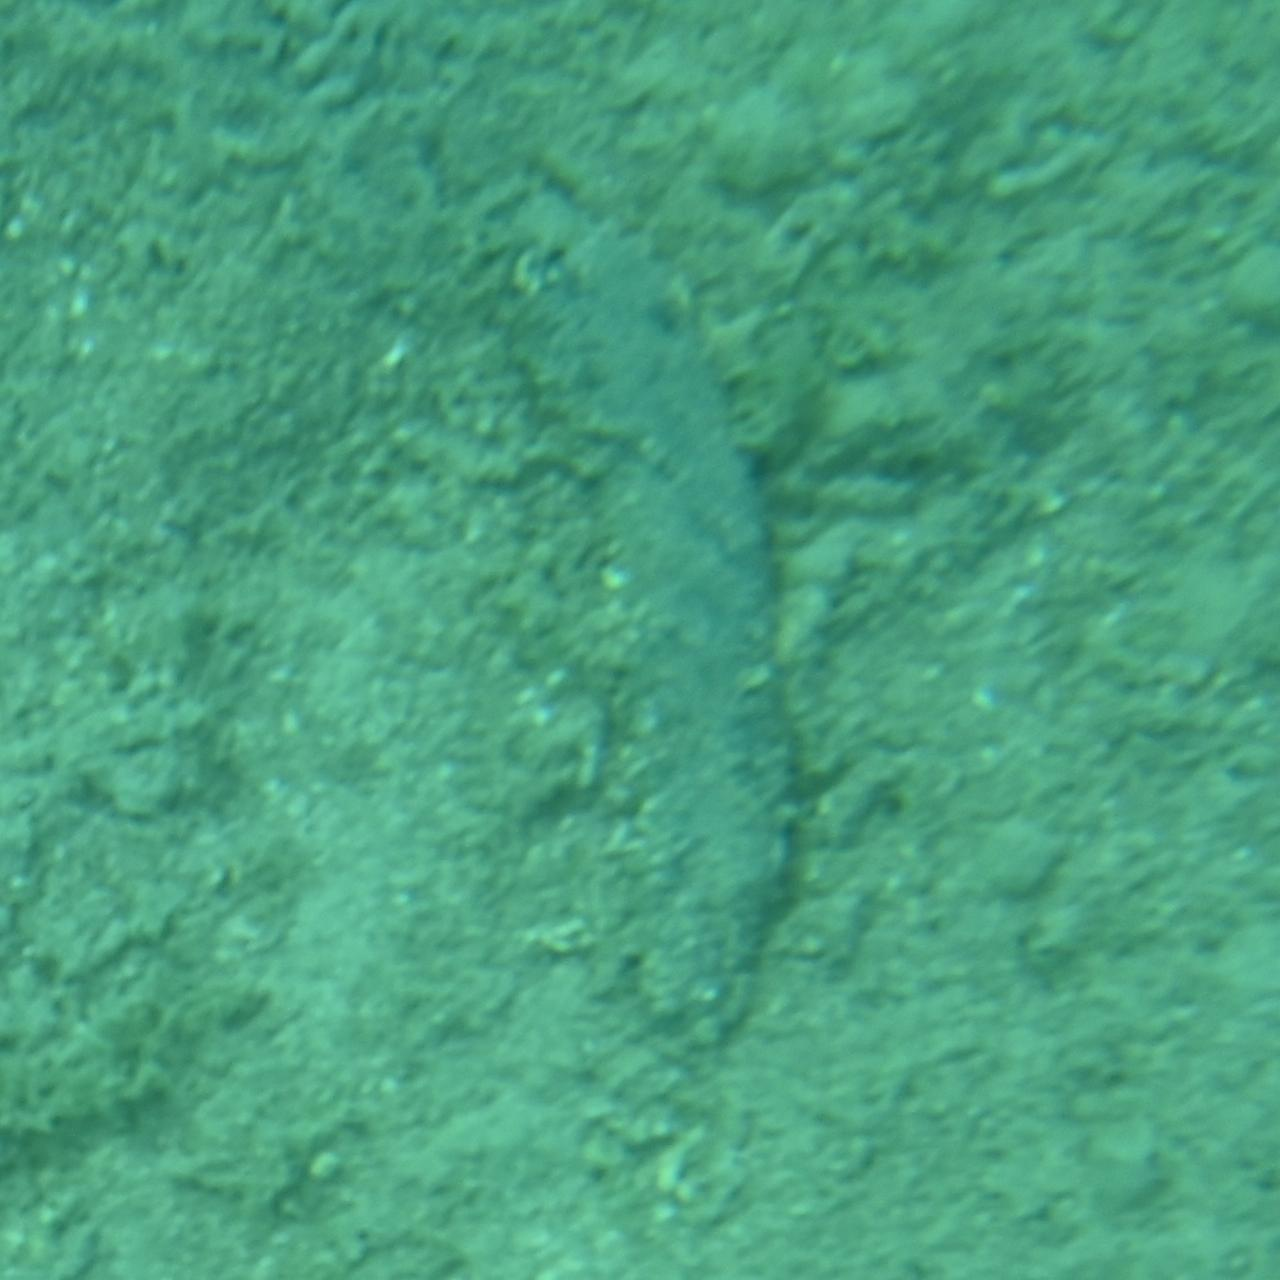Holothuria tubulosa: (456, 210, 824, 1070)
